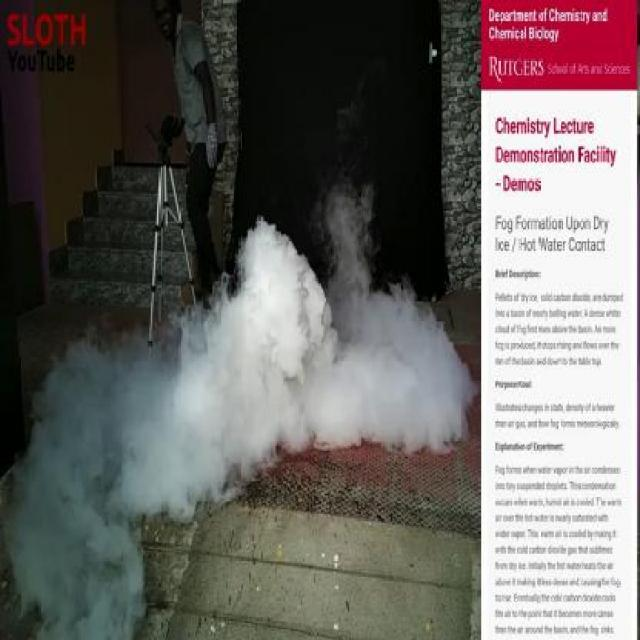smoke: (230, 191, 452, 471)
